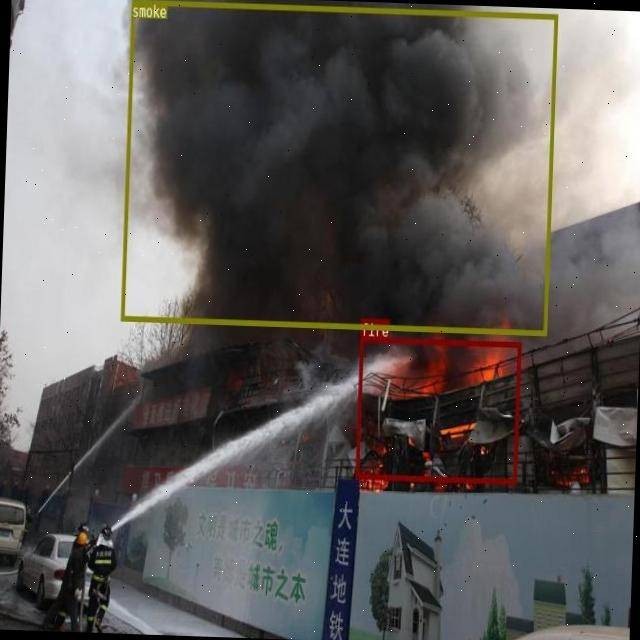fire: (354, 336, 520, 482)
smoke: (120, 0, 557, 334)
